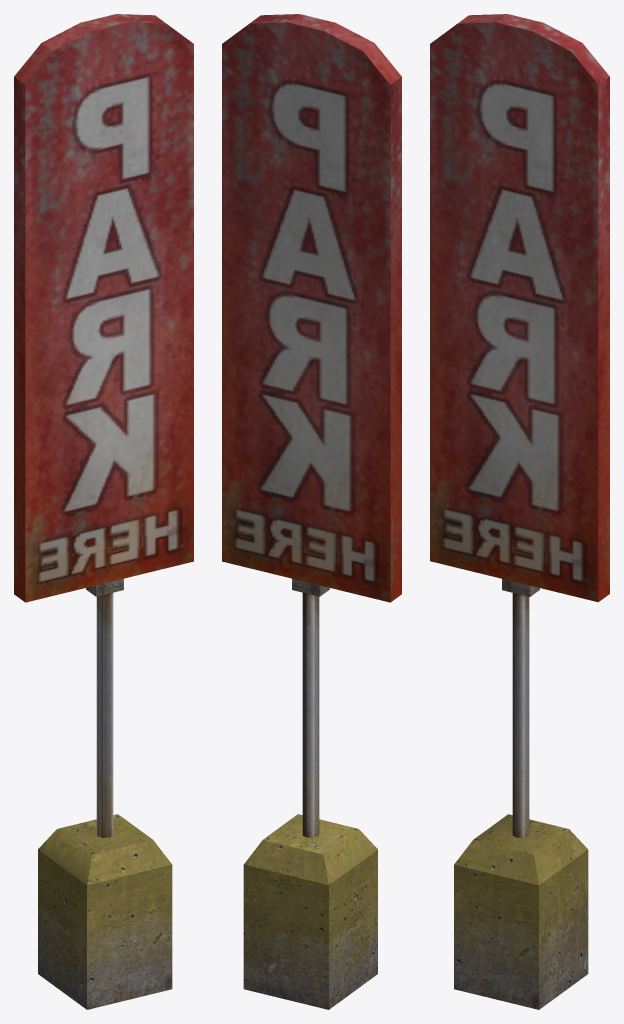
Rendered from park_here.fbx.
3 renders of one model, left to right at view 1: azimuth 30°, elevation 25°; view 2: azimuth 150°, elevation 25°; view 3: azimuth 330°, elevation 25°, orthographic.
Visible parts, largest first — view 1: mesh_0; view 2: mesh_0; view 3: mesh_0.
Part boxes in pixels (x1,y1,x2,y2): mesh_0: (14, 14, 193, 1009); mesh_0: (222, 14, 401, 1009); mesh_0: (430, 14, 609, 1009).
Size of the model in its own units: 142 by 770 by 71.49.
1 material, 1 textured.
